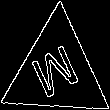M_SE: (28, 38, 85, 105)
